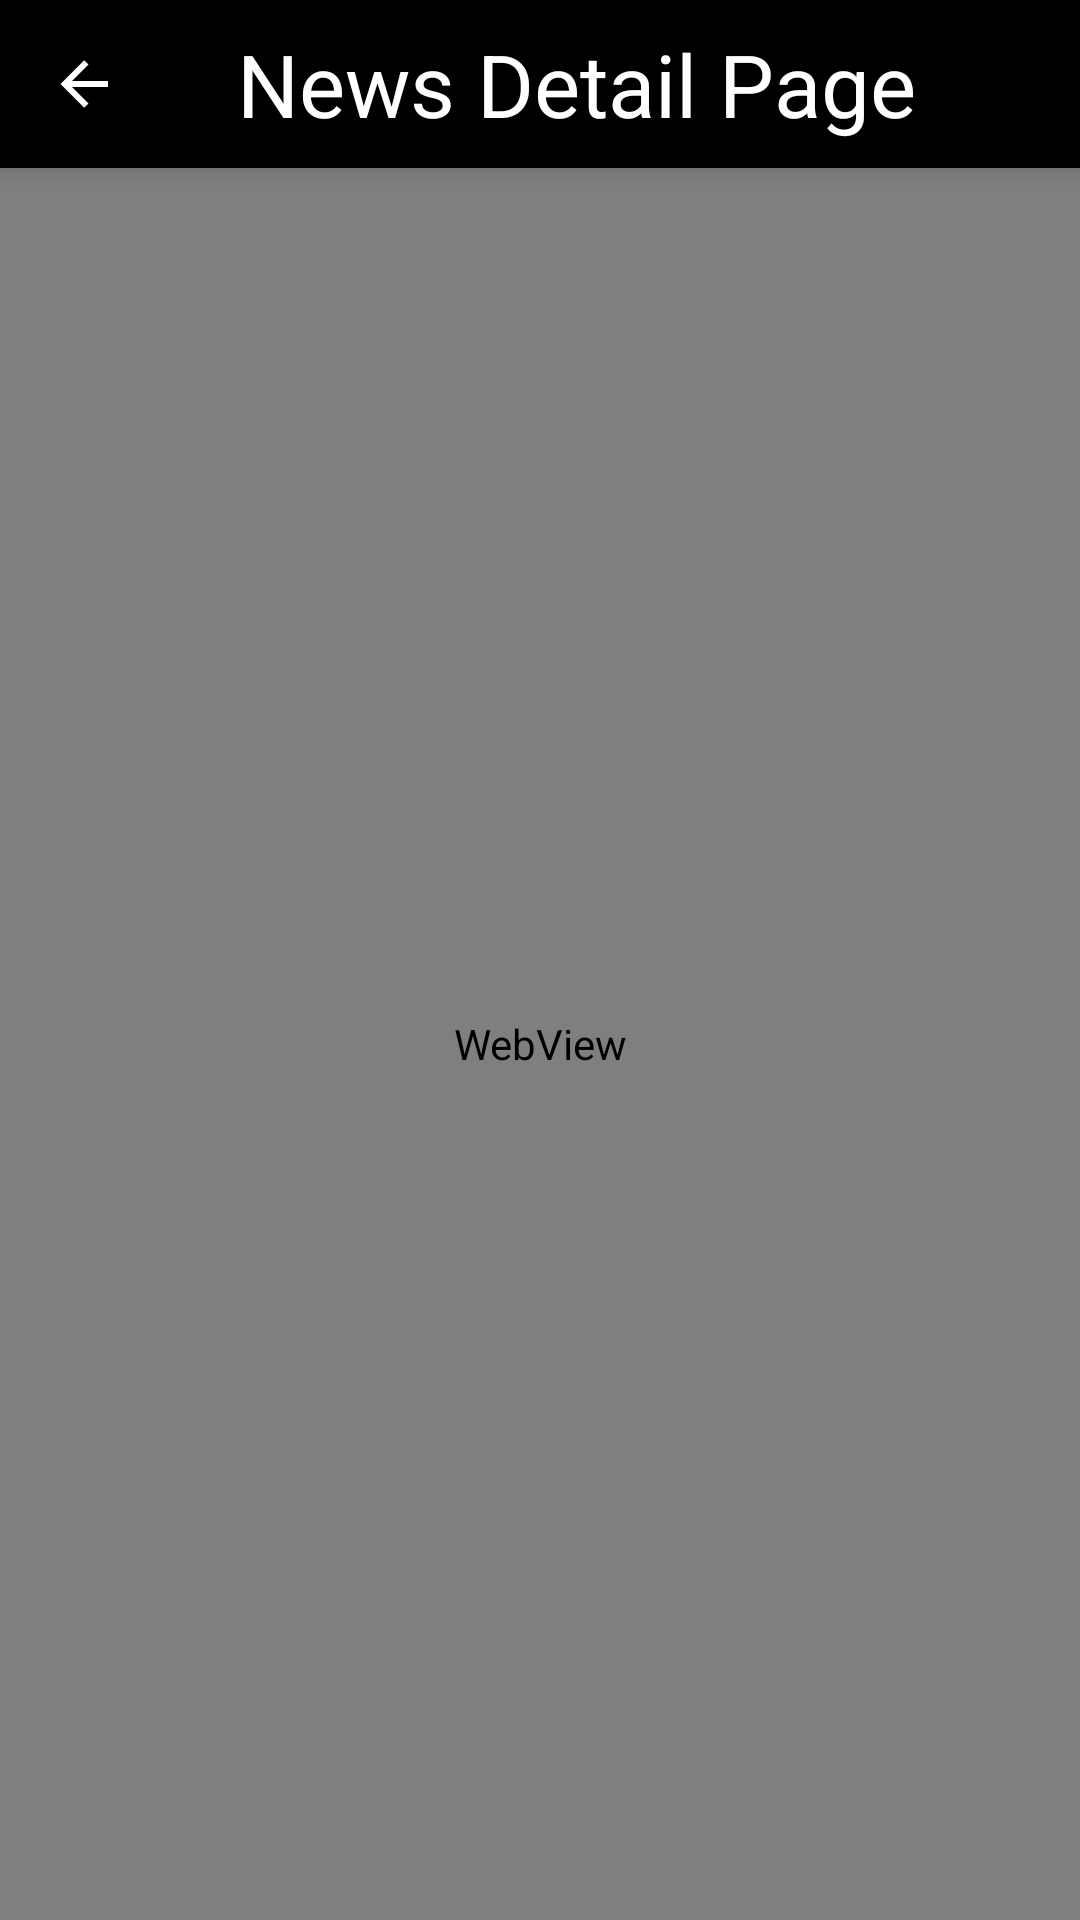

Icons on this 1080px x 1920px Android screen, each with the point to tap as (x,y):
arrow left: (84,84)
